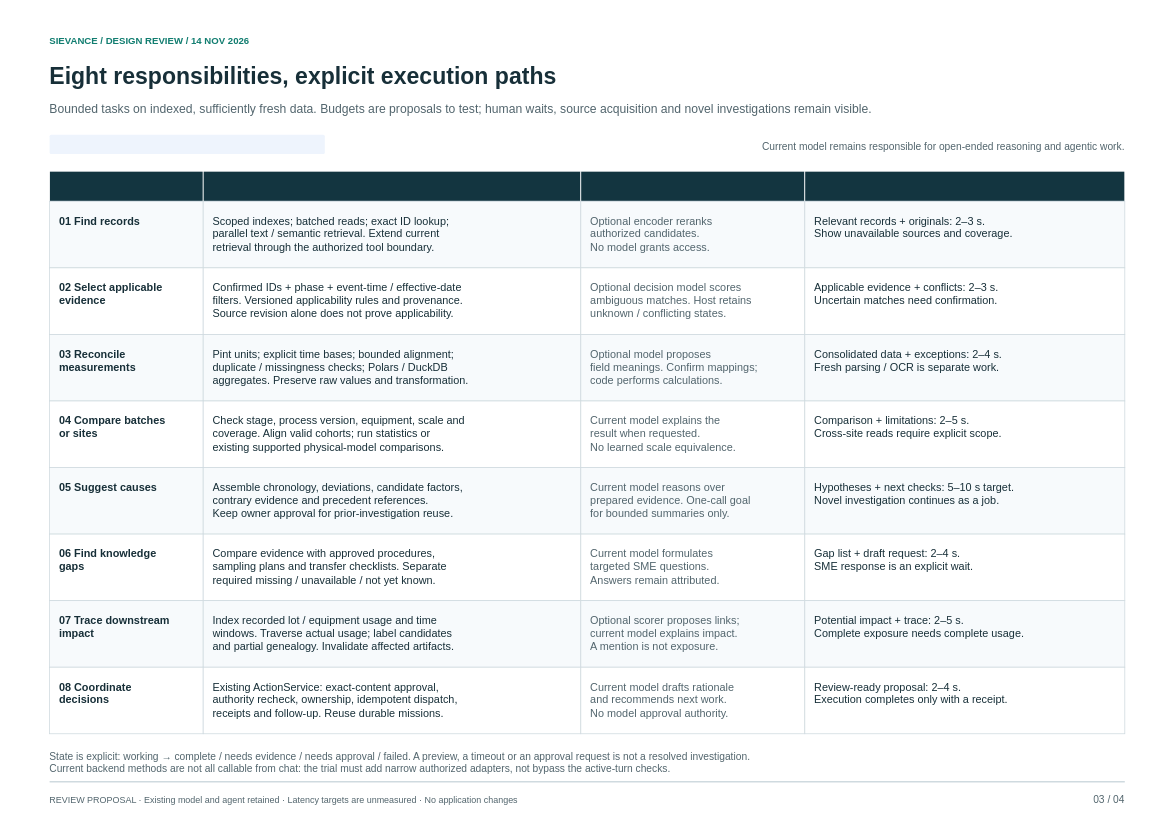
Some shapes in this 1174 by 828 pixel diagram are drawn without their labels. Here are the shapes that lost their labels. From the top down, the centre of each, then its label:
At (x=186, y=144): "COMPLETED ROUTINE TASKS: TARGET 2–10 s".
At (x=126, y=185): "RESPONSIBILITY".
At (x=391, y=185): "DETERMINISTIC / DATA WORK".
At (x=692, y=185): "MODEL ROLE".
At (x=964, y=185): "DELIVERABLE + TARGET".
